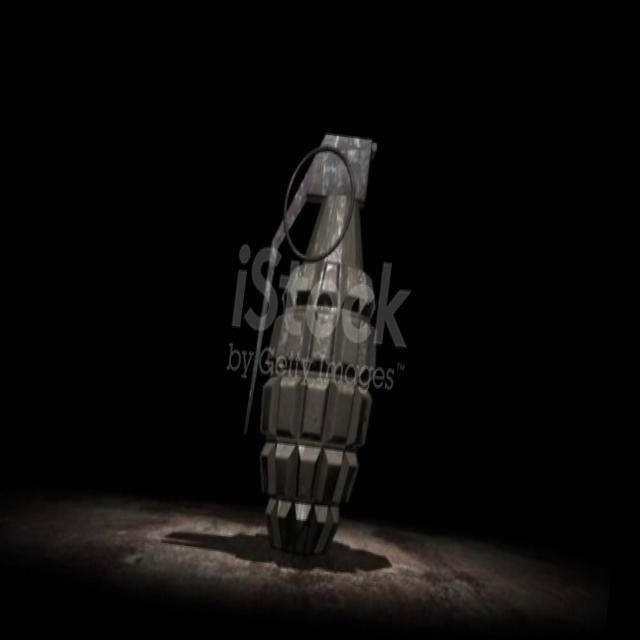grenade: (230, 117, 407, 564)
